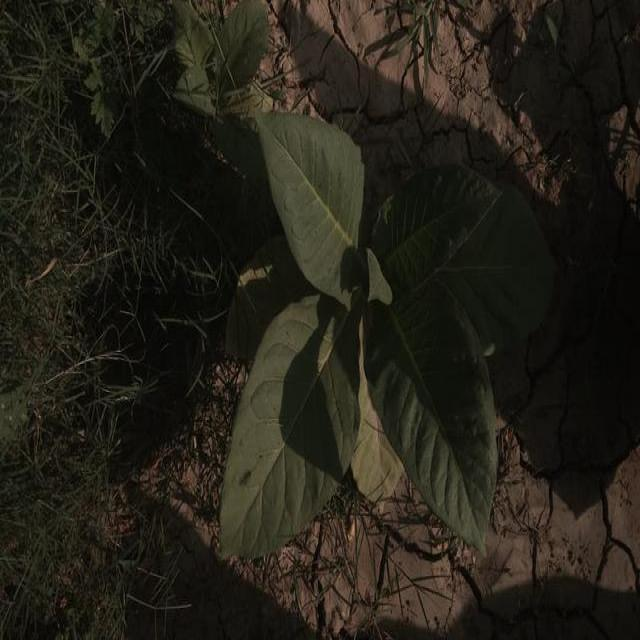crop: (216, 110, 500, 569)
